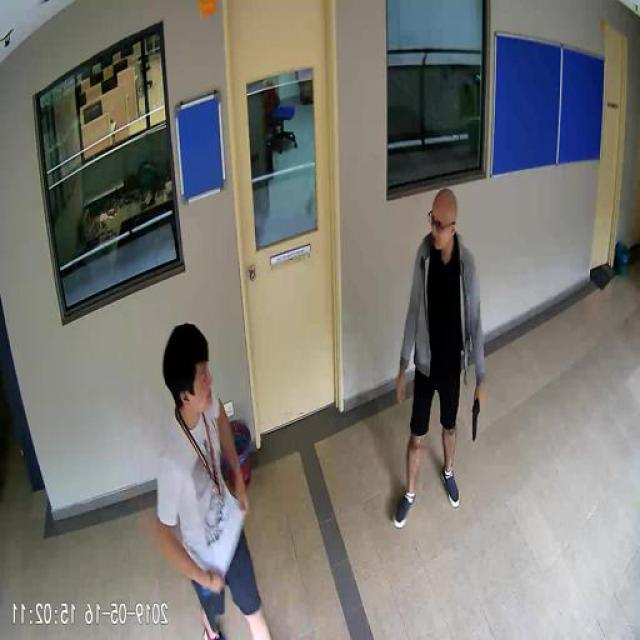Gun: (474, 394, 485, 440)
